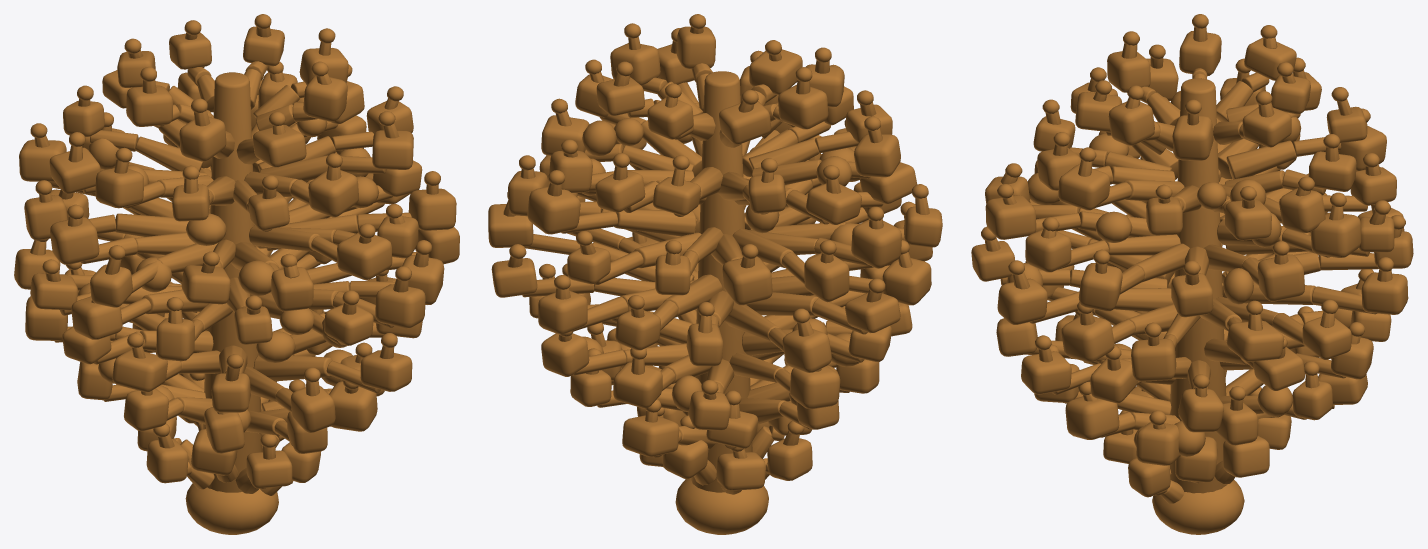
Rendered from process-step-02-wax-branch.glb.
3 views of the same model, side by side, from view 1: azimuth 30°, elevation 25°; view 2: azimuth 150°, elevation 25°; view 3: azimuth 270°, elevation 25° (orthographic).
Visible parts, largest first — view 1: tripo_node_49e1131a-c107-4ba1-9da4-124aedf136c2; view 2: tripo_node_49e1131a-c107-4ba1-9da4-124aedf136c2; view 3: tripo_node_49e1131a-c107-4ba1-9da4-124aedf136c2.
Boxes of the visible parts, x1,y1,x2,y2 form: tripo_node_49e1131a-c107-4ba1-9da4-124aedf136c2: [14, 14, 459, 534]; tripo_node_49e1131a-c107-4ba1-9da4-124aedf136c2: [488, 14, 942, 534]; tripo_node_49e1131a-c107-4ba1-9da4-124aedf136c2: [971, 14, 1413, 534].
Size of the model in its own units: 0.7268 by 0.8483 by 0.7165.
